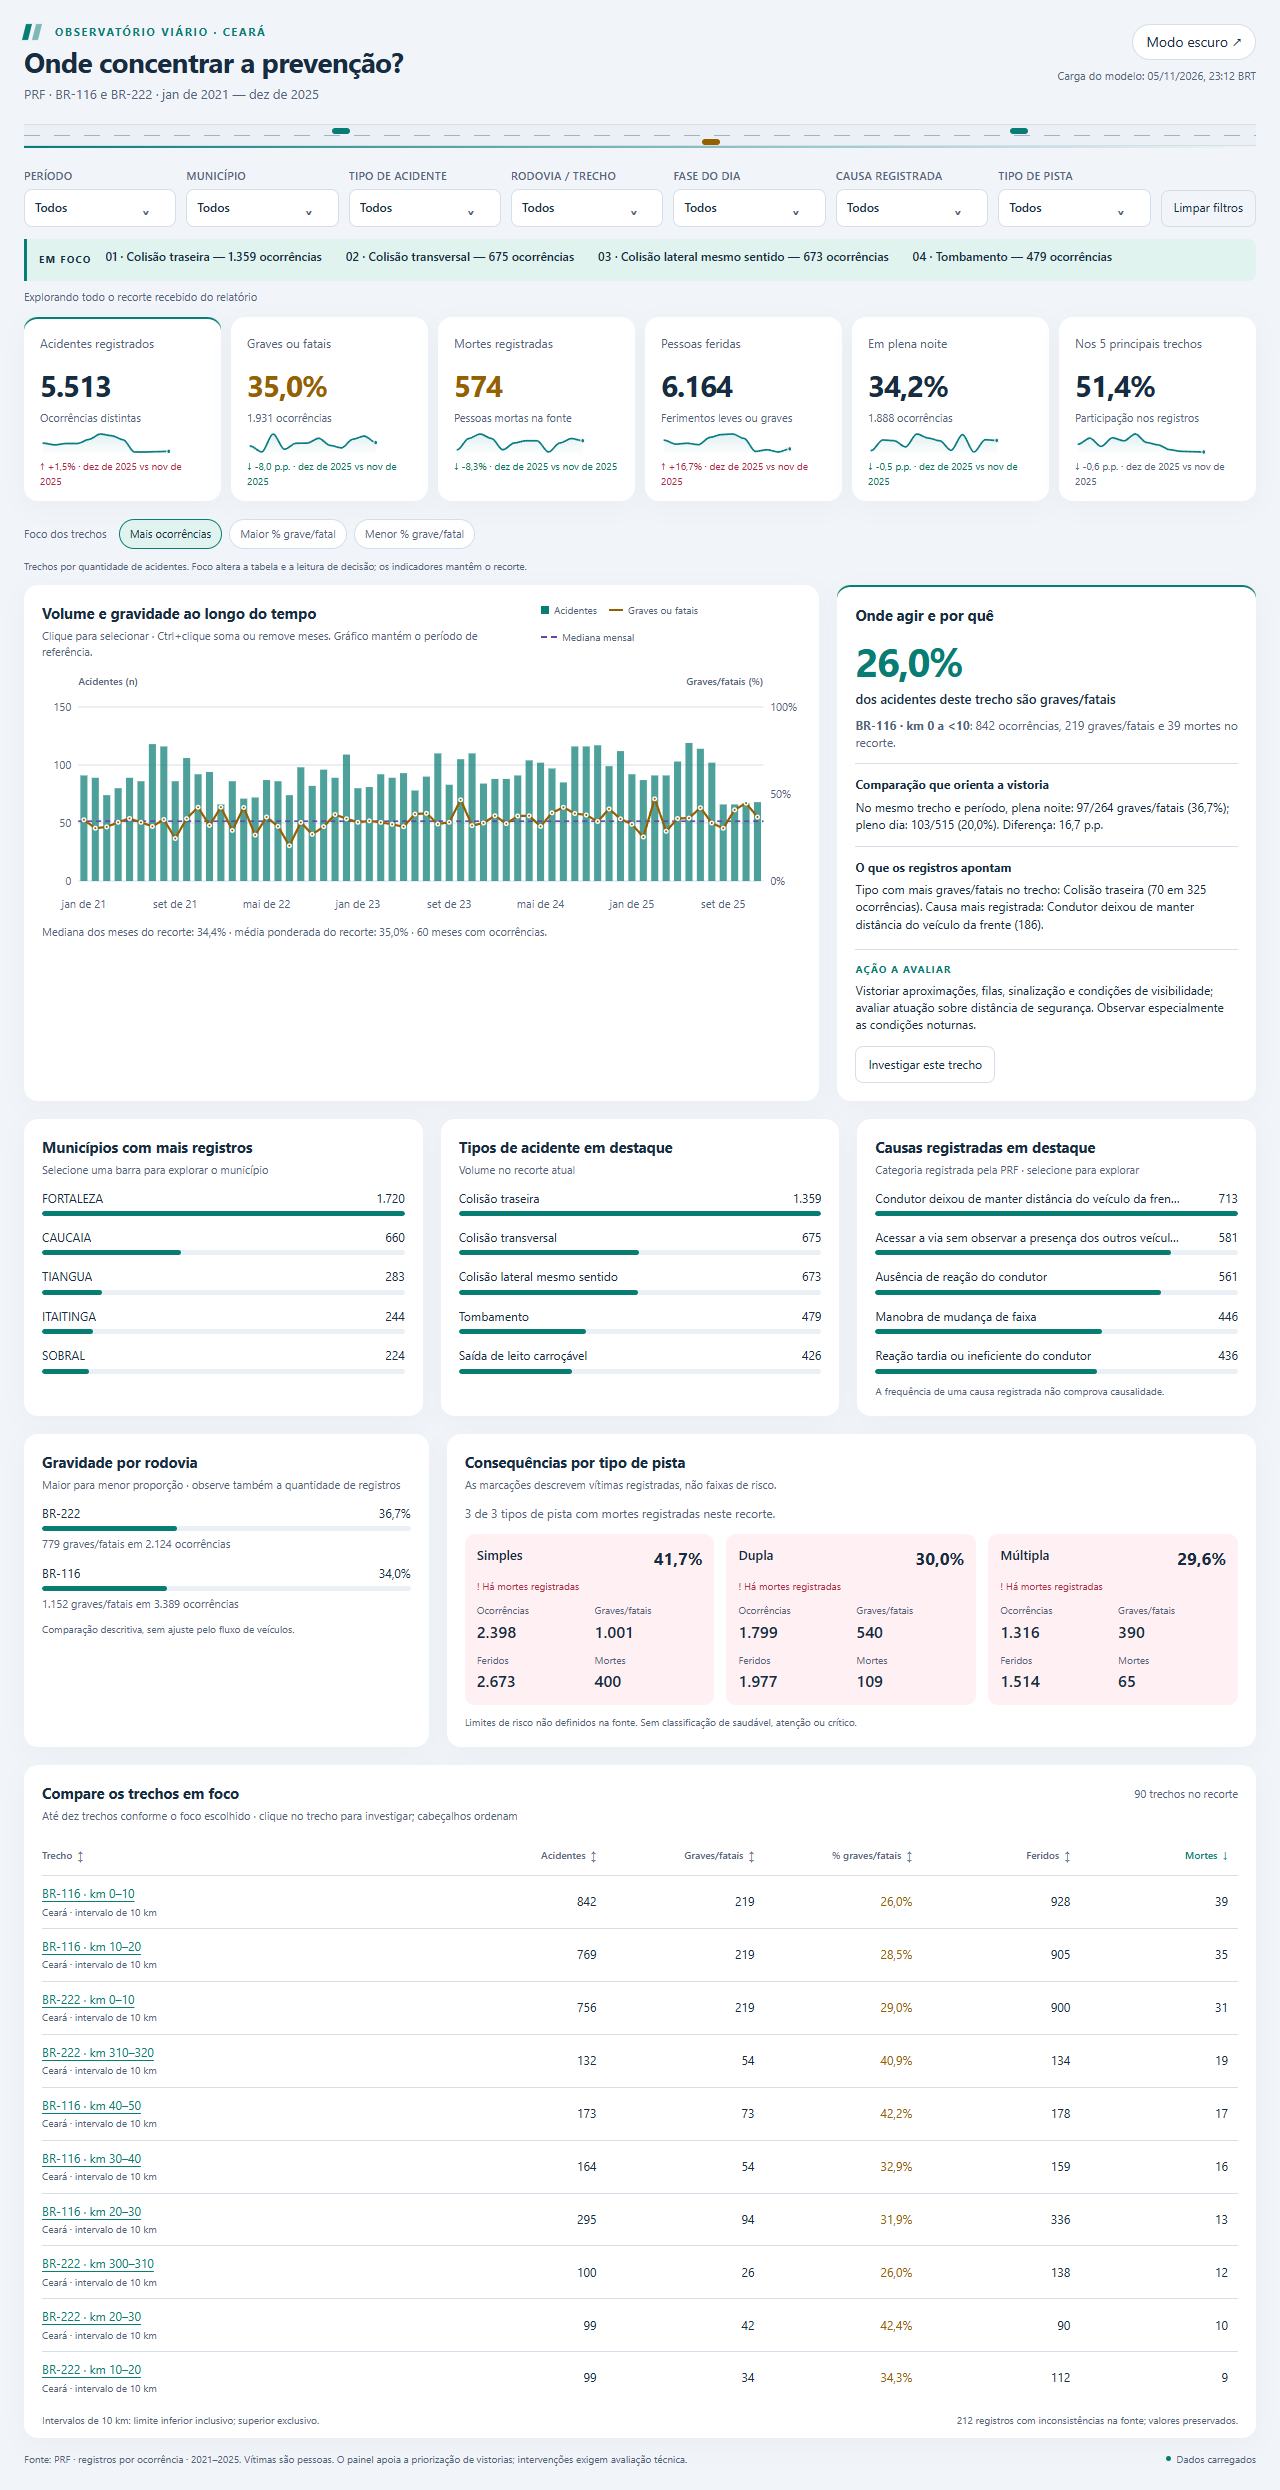

Layout of this report page (visuals, bound fields, positions):
{"tool":"powerbi","page":{"name":"Página 2","canvas":[1280,720],"ordinal":1},"visuals":[{"type":"htmlContent443BE3AD55E043BF878BED274D3A6855","fields":{"content":["fAcidentes.HTML Dashboard PRF"]},"box":[0,0,1279.8,720.2],"z":0}]}

Visuals, with their boxes on the page's 1280x720 design canvas (x1, y1, x2, y2). These are canvas units, not pixel positions in the 1280x2490 screenshot, which may show the page scaled, cropped or inside an application window:
htmlContent443BE3AD55E043BF878BED274D3A6855 - fAcidentes.HTML Dashboard PRF: BBox(0, 0, 1280, 720)
